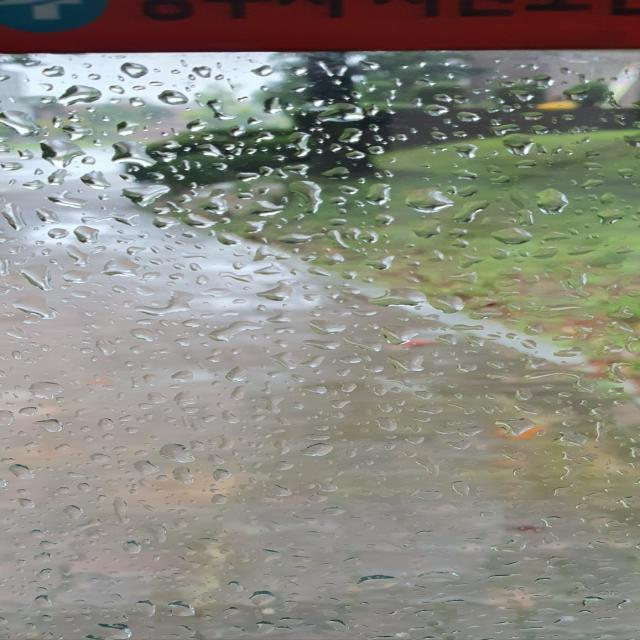raindrop: (284, 176, 336, 218), (402, 182, 463, 216), (517, 368, 596, 393), (102, 138, 162, 170), (134, 287, 196, 317), (202, 318, 265, 346), (96, 254, 153, 284), (149, 438, 205, 468), (486, 416, 544, 444), (38, 137, 88, 169), (5, 294, 60, 323), (354, 179, 402, 211), (529, 185, 574, 219), (366, 288, 429, 312), (312, 100, 369, 126), (492, 132, 548, 158), (348, 570, 406, 595), (378, 348, 429, 376), (378, 322, 429, 350), (253, 278, 304, 305), (54, 83, 106, 109), (118, 184, 174, 208), (444, 140, 492, 168), (481, 222, 539, 245), (0, 108, 44, 138), (34, 417, 88, 441), (423, 289, 468, 317), (299, 316, 353, 339), (17, 262, 58, 292), (599, 357, 640, 387), (163, 461, 204, 490), (588, 206, 638, 229), (245, 246, 302, 266), (268, 228, 324, 248), (65, 222, 108, 248), (402, 216, 448, 240), (357, 252, 401, 276), (160, 599, 204, 623), (75, 168, 118, 192), (24, 378, 70, 400), (178, 208, 220, 232), (418, 566, 471, 585), (88, 621, 141, 640), (464, 304, 514, 324), (205, 95, 239, 124), (54, 265, 98, 287), (92, 336, 132, 360), (264, 350, 306, 372), (18, 592, 60, 614), (532, 301, 582, 319), (302, 336, 352, 354), (112, 60, 152, 82), (2, 461, 46, 481), (548, 342, 596, 360), (296, 441, 346, 458), (314, 247, 350, 270), (368, 414, 404, 437), (258, 392, 291, 417), (413, 100, 454, 120), (587, 190, 628, 210), (117, 538, 158, 558), (217, 362, 256, 383), (47, 193, 94, 210), (264, 480, 302, 501), (155, 88, 192, 109), (129, 598, 164, 620), (208, 270, 256, 286), (453, 252, 491, 272), (552, 430, 590, 450), (210, 228, 244, 250), (246, 588, 289, 605), (124, 458, 164, 476), (257, 94, 288, 116), (406, 486, 443, 504), (530, 244, 566, 262), (298, 381, 334, 399), (58, 499, 85, 523), (127, 328, 167, 344), (165, 369, 198, 387), (333, 354, 370, 370), (23, 526, 55, 544), (248, 61, 278, 80), (147, 214, 176, 232), (192, 64, 215, 80)
